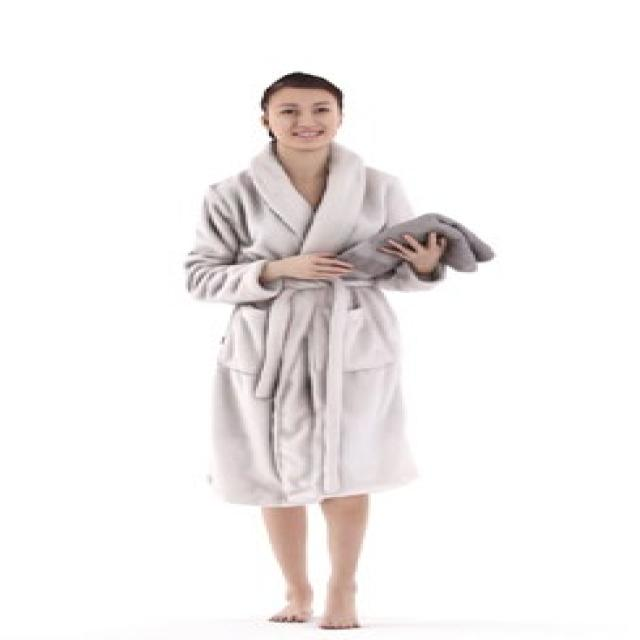standing: (179, 72, 451, 620)
